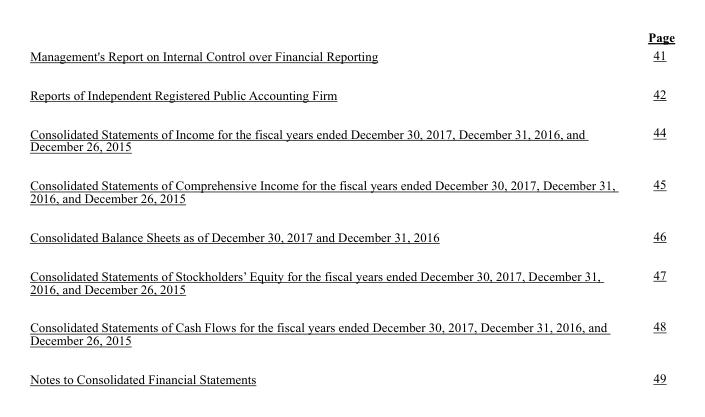table: (29, 29, 673, 385)
table column: (29, 29, 630, 385), (630, 29, 673, 385)
table column header: (29, 29, 673, 45)
table row: (29, 164, 673, 216), (29, 255, 673, 307), (29, 113, 673, 164), (29, 307, 673, 358), (29, 74, 673, 113), (29, 216, 673, 255), (29, 45, 673, 74), (29, 358, 673, 385), (29, 29, 673, 45)
